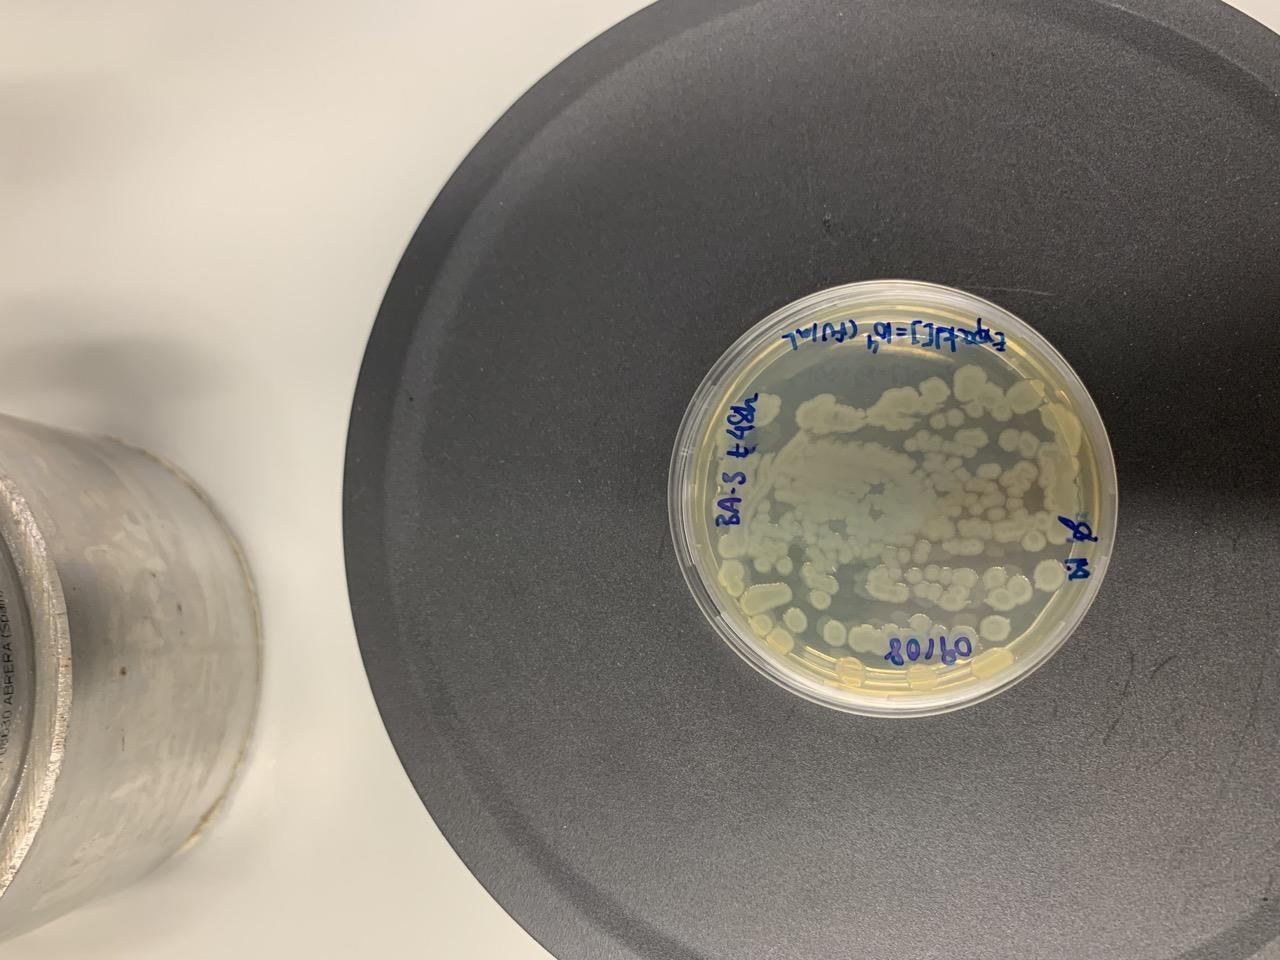colony: (1007, 375, 1046, 413), (1032, 555, 1068, 591), (978, 612, 1013, 642), (765, 625, 796, 656), (820, 617, 848, 648), (950, 623, 978, 653), (953, 427, 990, 449), (782, 606, 809, 635), (1009, 574, 1034, 604), (1018, 428, 1040, 460), (986, 588, 1015, 612), (982, 565, 1007, 589), (1021, 529, 1047, 553), (907, 609, 931, 633), (998, 427, 1020, 453), (990, 399, 1015, 422), (750, 612, 773, 635), (912, 538, 933, 564), (958, 536, 987, 555), (978, 460, 1003, 480), (810, 590, 833, 611), (723, 578, 747, 597), (903, 564, 923, 584), (776, 556, 794, 576), (966, 399, 984, 419), (928, 411, 947, 430), (986, 505, 1006, 521), (924, 563, 939, 582), (895, 546, 910, 564), (1006, 497, 1024, 511)
